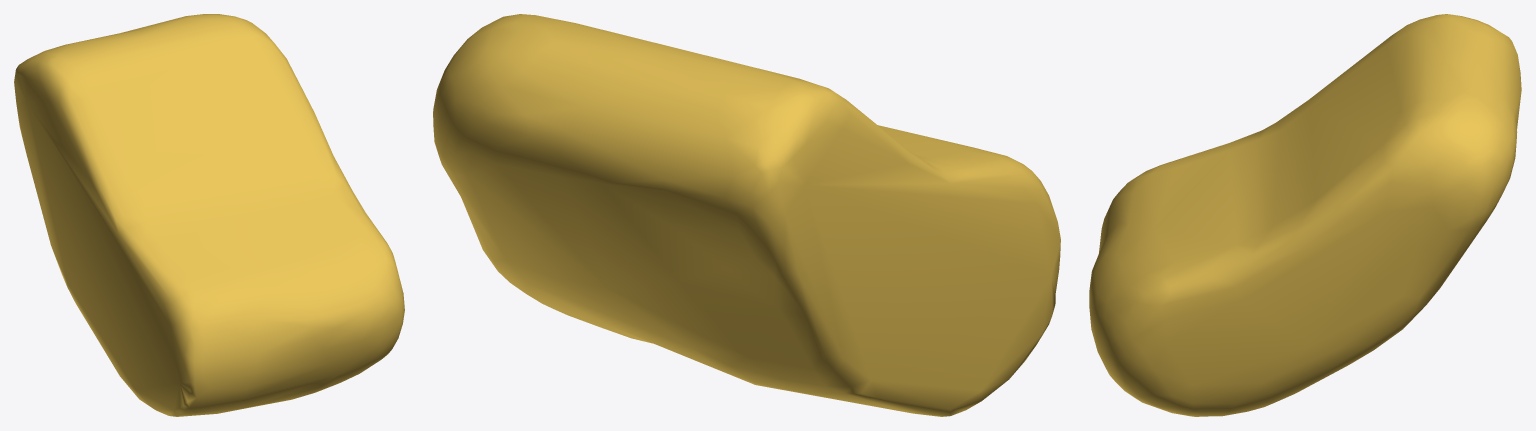
The model's file is Optic_chiasm_left.glb.
The picture shows the model from 3 angles, left to right: view 1: azimuth 30°, elevation 25°; view 2: azimuth 150°, elevation 25°; view 3: azimuth 270°, elevation 25°; orthographic projection. The views are drawn at different scales.
Visible parts, largest first — view 1: Optic_chiasm.l_grp1.061; view 2: Optic_chiasm.l_grp1.061; view 3: Optic_chiasm.l_grp1.061.
Boxes of the visible parts, left/top/right/bottom form: Optic_chiasm.l_grp1.061: left=14, top=14, right=404, bottom=416; Optic_chiasm.l_grp1.061: left=433, top=14, right=1060, bottom=416; Optic_chiasm.l_grp1.061: left=1089, top=14, right=1521, bottom=416.
Bounding box in the file's own units: 0.00711 × 0.00785 × 0.01.
